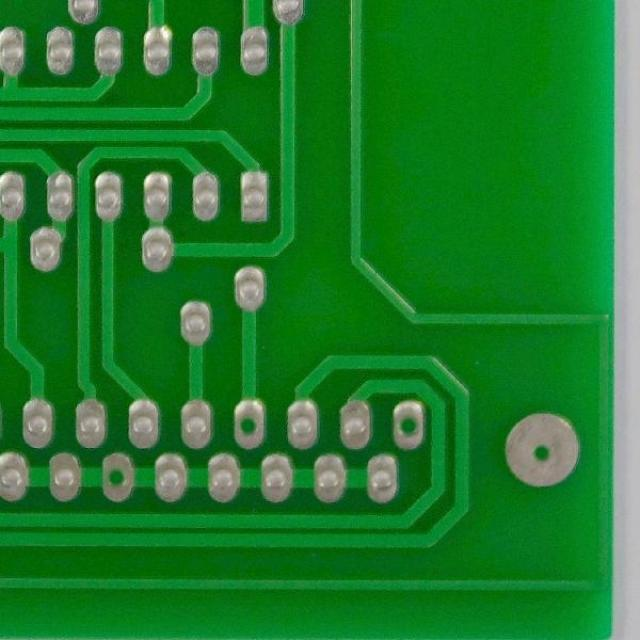Missing_Hole: (497, 408, 587, 489), (228, 397, 271, 451), (388, 398, 429, 452), (95, 451, 136, 504)
